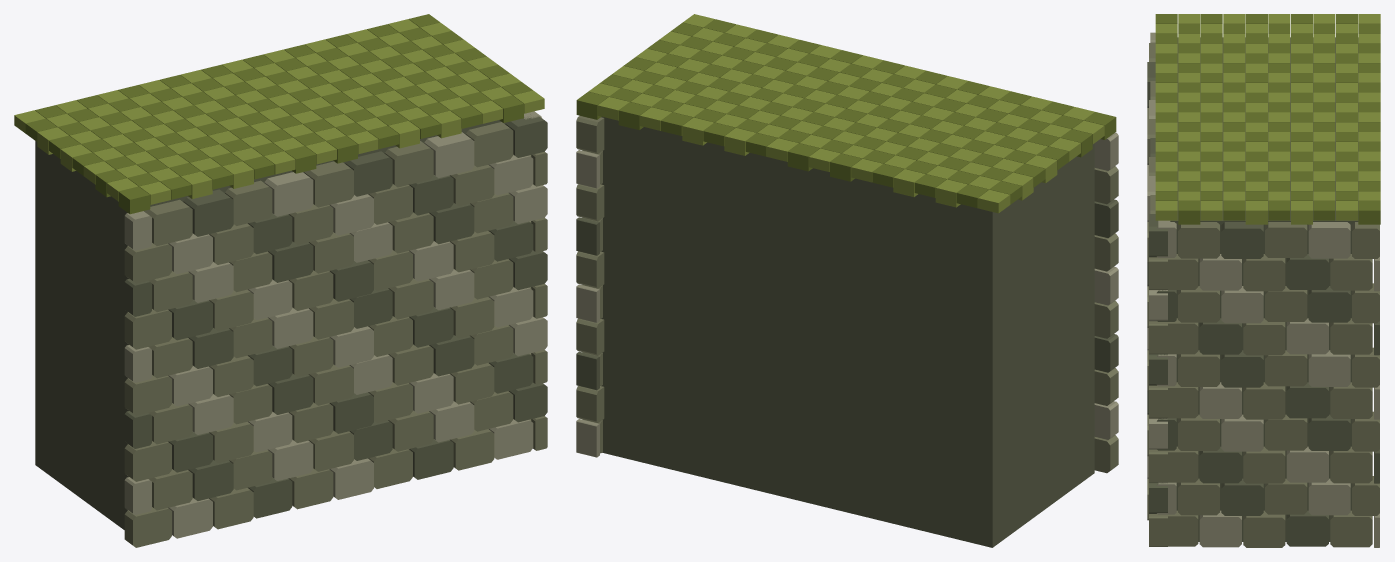
Rendered from SM_DC_Cliff_Half.fbx.
The picture shows the model from 3 angles, left to right: view 1: azimuth 30°, elevation 25°; view 2: azimuth 150°, elevation 25°; view 3: azimuth 270°, elevation 25°; orthographic projection. The views are drawn at different scales.
Parts seen in each view (by area): view 1: SM_DC_Cliff_Half; view 2: SM_DC_Cliff_Half; view 3: SM_DC_Cliff_Half.
Boxes of the visible parts, box(x1,y1,x2,y2) form: SM_DC_Cliff_Half: box(14, 14, 547, 547); SM_DC_Cliff_Half: box(576, 14, 1118, 547); SM_DC_Cliff_Half: box(1147, 14, 1380, 547).
Bounding box in the file's own units: 3 × 1.5 × 2.4.
